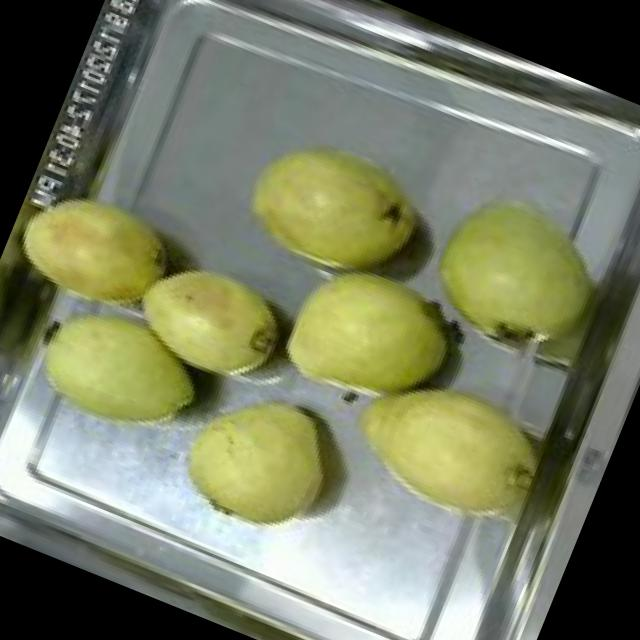Fruit: (330, 339, 560, 546), (403, 166, 620, 382), (255, 236, 478, 438), (222, 108, 444, 307), (11, 271, 230, 464), (158, 360, 360, 558), (0, 158, 203, 349), (112, 234, 306, 406)
